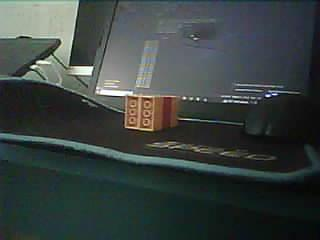lego: (124, 93, 181, 131)
